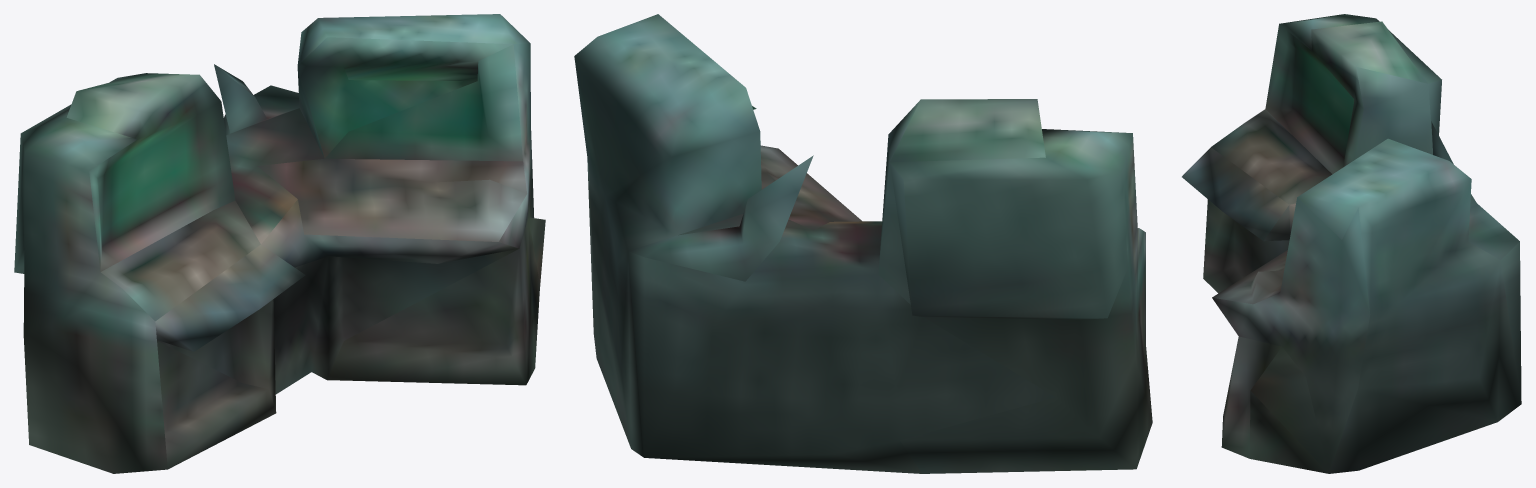
File: Pcs_por_2.glb
3 views of the same model, side by side, from view 1: azimuth 30°, elevation 25°; view 2: azimuth 150°, elevation 25°; view 3: azimuth 270°, elevation 25° (orthographic). The views are drawn at different scales.
Parts seen in each view (by area): view 1: Pcs por 2; view 2: Pcs por 2; view 3: Pcs por 2.
Boxes of the visible parts, left/top/right/bottom form: Pcs por 2: left=14, top=14, right=545, bottom=473; Pcs por 2: left=574, top=14, right=1152, bottom=473; Pcs por 2: left=1182, top=14, right=1521, bottom=473.
Size of the model in its own units: 0.0913 by 0.0543 by 0.0603.
Materials: 1 (1 with a texture image).
